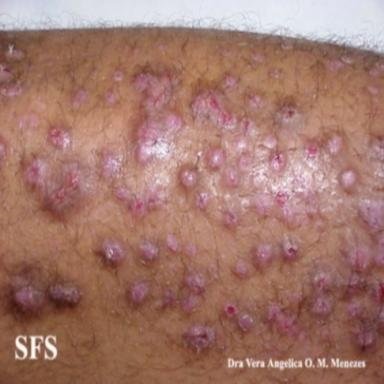Epidermolysis-Bullosa-Pruriginosa: (311, 199, 384, 349), (191, 83, 257, 187), (132, 72, 185, 168), (22, 152, 97, 219), (6, 260, 82, 320), (114, 183, 163, 212), (254, 189, 295, 223), (0, 43, 24, 96), (223, 300, 254, 331), (183, 324, 215, 353), (265, 302, 295, 332), (182, 273, 205, 312), (96, 239, 125, 265), (101, 150, 125, 180), (368, 138, 384, 179), (275, 103, 301, 126), (48, 127, 72, 150), (127, 281, 149, 306), (253, 242, 276, 265), (340, 168, 359, 192), (282, 234, 299, 260), (139, 240, 158, 262), (155, 290, 175, 309), (180, 168, 197, 189), (18, 113, 39, 129), (247, 95, 265, 113), (305, 142, 319, 165), (270, 152, 286, 172), (327, 134, 342, 155), (222, 74, 239, 92), (72, 89, 86, 109), (234, 259, 248, 277), (195, 192, 209, 210), (167, 234, 178, 251), (105, 91, 119, 104), (0, 136, 7, 161), (186, 242, 197, 257), (114, 70, 123, 82)
